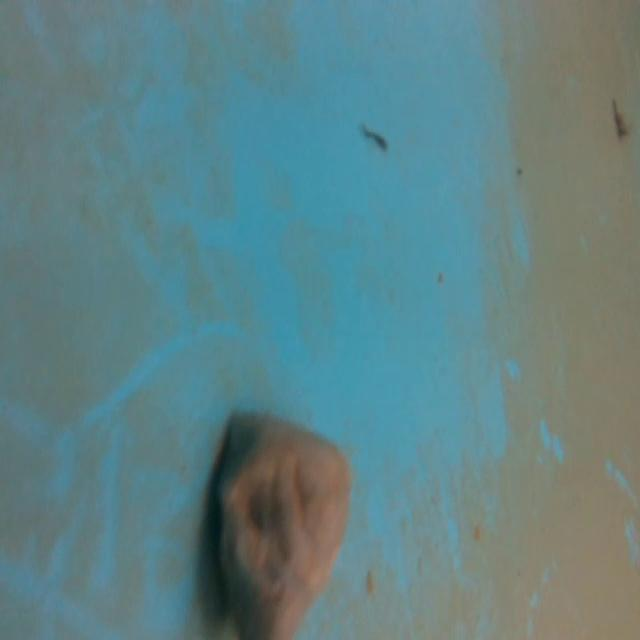rock: (208, 404, 359, 639)
